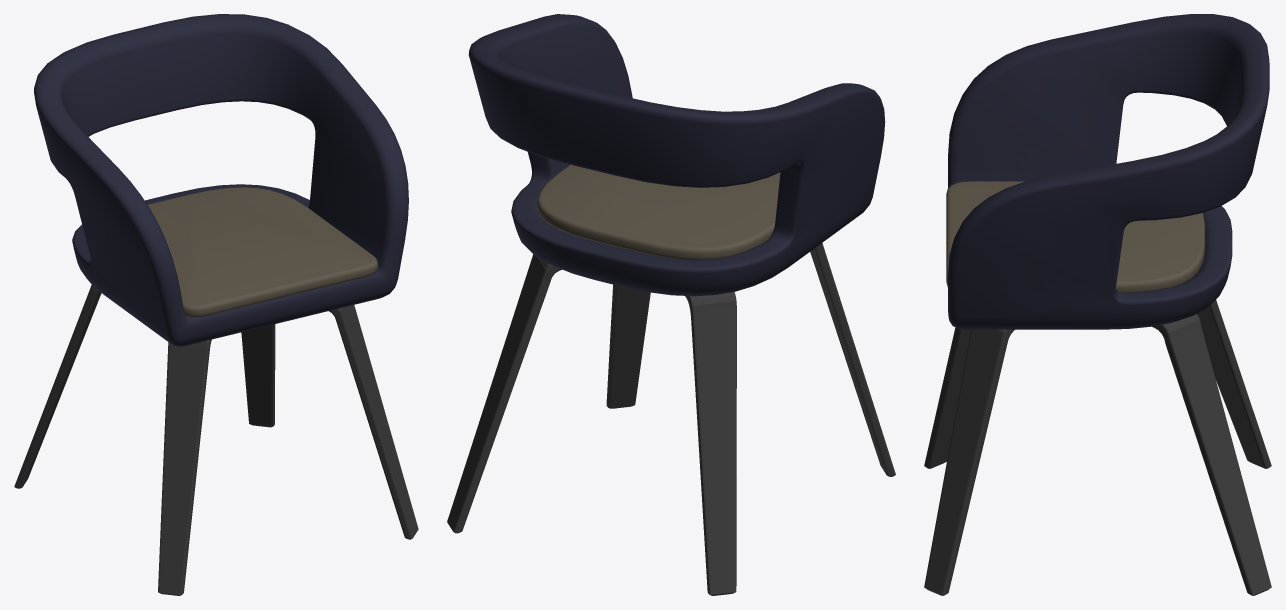
The model's file is h-006_chair_01_F.FBX.
3 views of the same model, side by side, from view 1: azimuth 30°, elevation 25°; view 2: azimuth 150°, elevation 25°; view 3: azimuth 270°, elevation 25° (orthographic). The views are drawn at different scales.
Parts seen in each view (by area): view 1: h-006_chair_01; view 2: h-006_chair_01; view 3: h-006_chair_01.
Part boxes in pixels (<box>): h-006_chair_01: <box>14,14,418,595</box>; h-006_chair_01: <box>447,14,895,595</box>; h-006_chair_01: <box>924,14,1271,595</box>.
Size of the model in its own units: 8.86 by 12.6 by 8.67.
